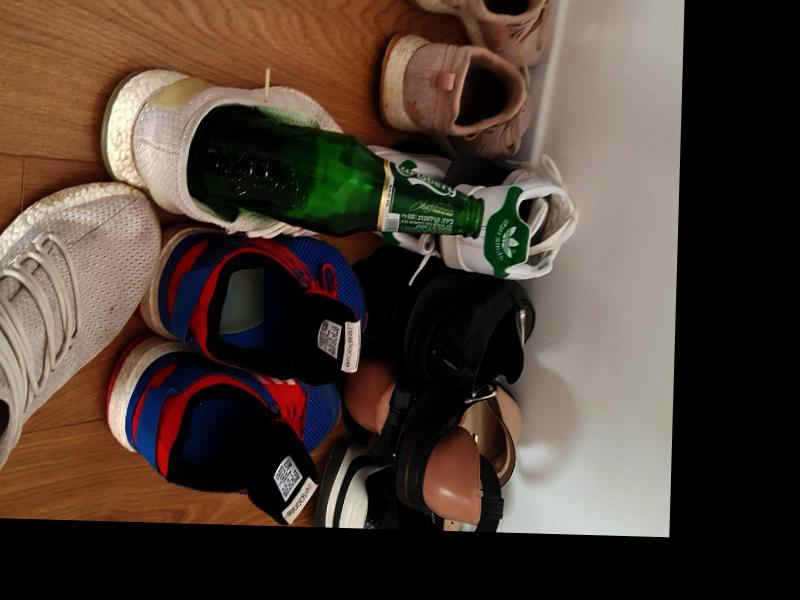Beer: (186, 108, 483, 242)
